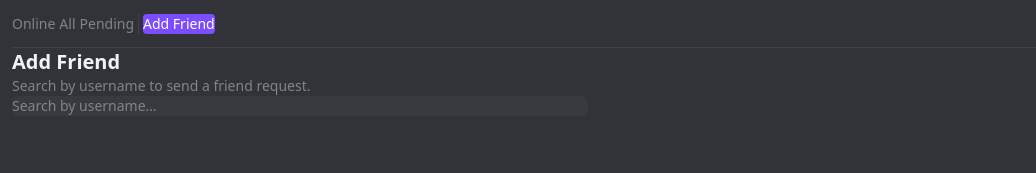
Test: FriendsView — Add Friend tab › shows user results from Supabase
Type "alic" into the field with placeholder "Search by username…" at (300, 106), box [12,96,588,116]
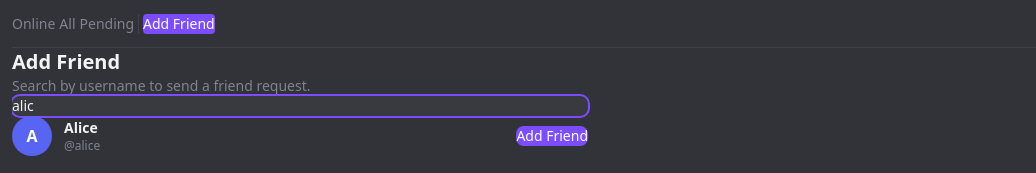
Result: the text "Alice" is shown at [64,118,98,137]
